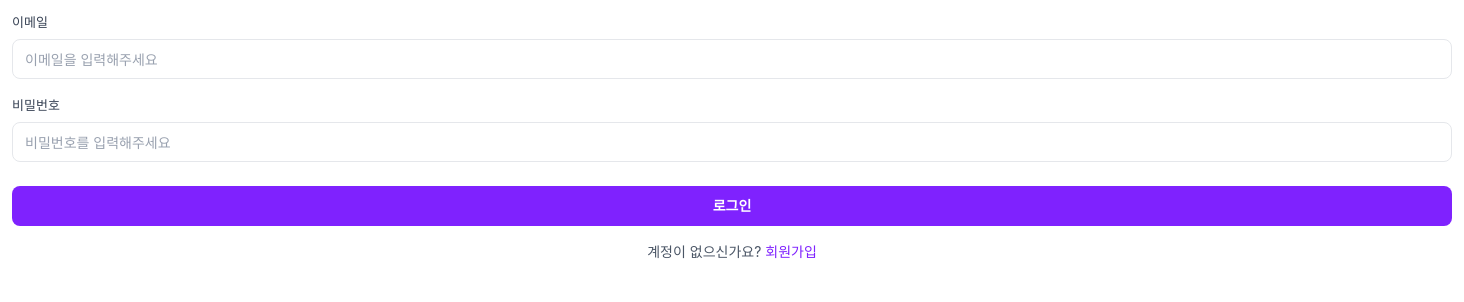
LoginForm › 잘못된 이메일 형식 입력 후 blur 시 에러 메시지가 표시된다
This screenshot has width=1464, height=302.
Type "invalid-email" into the field labelled "이메일" at {"x": 732, "y": 59}, box 12,39 -> 1452,79
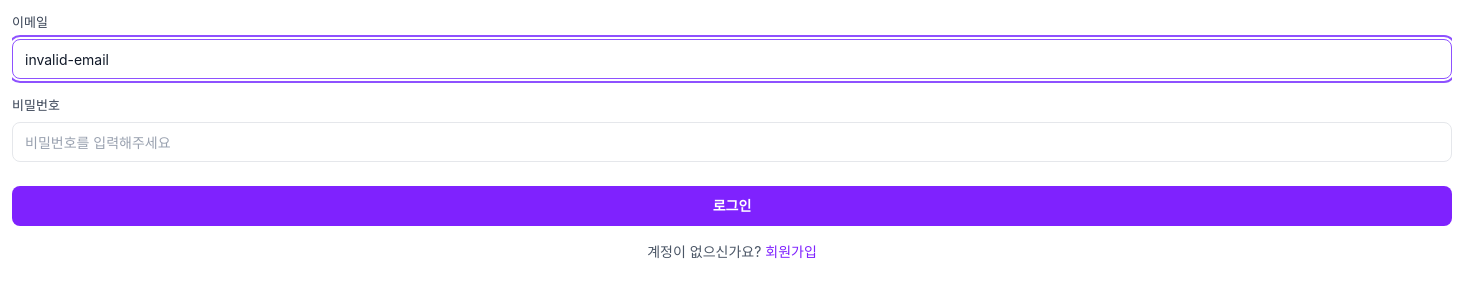
Press Tab
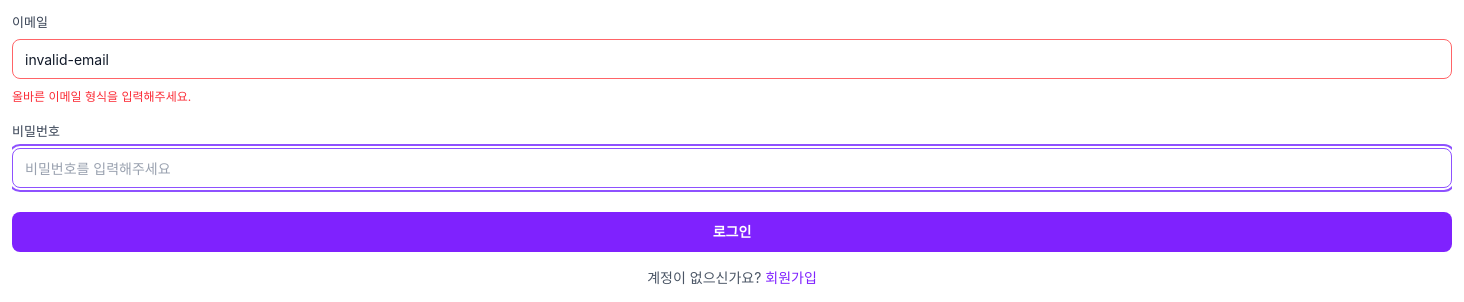
Now the text "올바른 이메일 형식을 입력해주세요." is shown, box 12,89 -> 191,104
